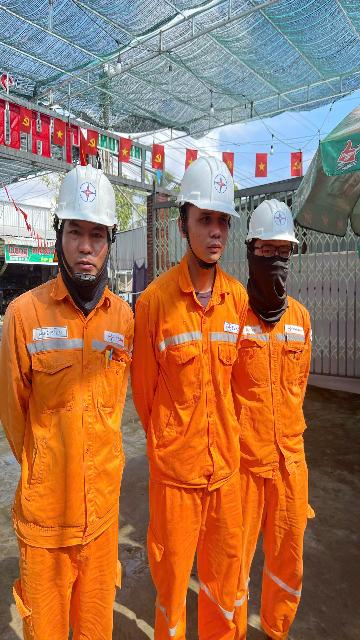helmet: (47, 164, 128, 230), (177, 149, 244, 222), (238, 188, 309, 247)
